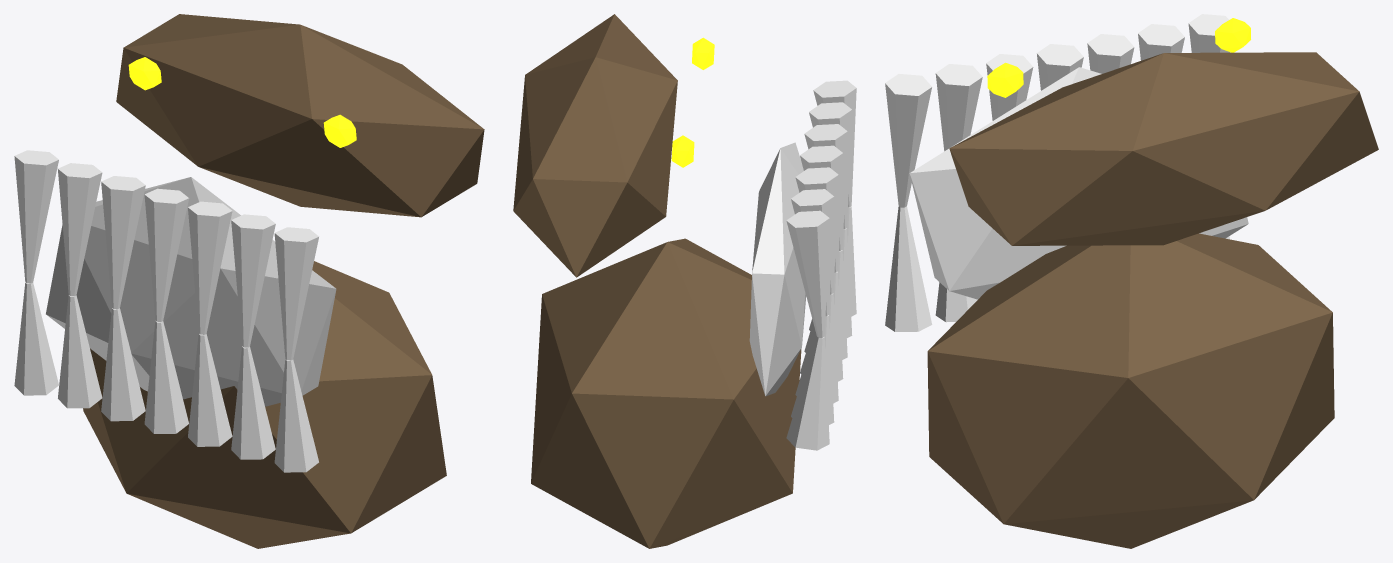
Rendered from mimic.glb.
The picture shows the model from 3 angles, left to right: view 1: azimuth 30°, elevation 25°; view 2: azimuth 150°, elevation 25°; view 3: azimuth 270°, elevation 25°; orthographic projection. The views are drawn at different scales.
Parts seen in each view (by area): view 1: Open lid, Chest body, Maw, Tooth.016, Tooth.008, Tooth.012, Tooth.018, Tooth.006, Tooth.010, Tooth.014, Tooth.007, Tooth.015 (+7 smaller); view 2: Chest body, Open lid, Maw, Tooth.006, Tooth.005, Tooth.012, Tooth.018, Tooth.008, Tooth.010, Tooth.016, Tooth.014, Tooth.007 (+7 smaller); view 3: Chest body, Open lid, Maw, Tooth.018, Tooth.017, Tooth.016, Tooth.010, Tooth.012, Tooth.014, Tooth.008, Tooth.006, Tooth.015 (+2 smaller).
Part boxes in pixels (x1=…): Open lid: x1=116, y1=14, x2=484, y2=217; Chest body: x1=83, y1=261, x2=446, y2=548; Maw: x1=46, y1=177, x2=336, y2=406; Tooth.016: x1=231, y1=214, x2=275, y2=347; Tooth.008: x1=58, y1=163, x2=102, y2=296; Tooth.012: x1=144, y1=188, x2=188, y2=321; Tooth.018: x1=274, y1=227, x2=318, y2=360; Tooth.006: x1=14, y1=150, x2=58, y2=283; Tooth.010: x1=101, y1=176, x2=145, y2=309; Tooth.014: x1=188, y1=201, x2=232, y2=334; Tooth.007: x1=58, y1=295, x2=102, y2=408; Tooth.015: x1=231, y1=346, x2=275, y2=459; Chest body: x1=531, y1=238, x2=801, y2=548; Open lid: x1=513, y1=14, x2=677, y2=277; Maw: x1=749, y1=142, x2=806, y2=396; Tooth.006: x1=786, y1=210, x2=829, y2=337; Tooth.005: x1=786, y1=337, x2=829, y2=450; Tooth.012: x1=800, y1=145, x2=843, y2=272; Tooth.018: x1=813, y1=80, x2=856, y2=207; Tooth.008: x1=791, y1=189, x2=834, y2=316; Tooth.010: x1=795, y1=167, x2=838, y2=294; Tooth.016: x1=809, y1=102, x2=852, y2=229; Tooth.014: x1=804, y1=124, x2=847, y2=250; Tooth.007: x1=791, y1=315, x2=834, y2=424; Chest body: x1=927, y1=233, x2=1334, y2=548; Open lid: x1=949, y1=52, x2=1378, y2=245; Maw: x1=909, y1=67, x2=1248, y2=299; Tooth.018: x1=885, y1=74, x2=931, y2=207; Tooth.017: x1=885, y1=206, x2=932, y2=331; Tooth.016: x1=935, y1=64, x2=982, y2=151; Tooth.010: x1=1087, y1=34, x2=1134, y2=73; Tooth.012: x1=1036, y1=44, x2=1083, y2=90; Tooth.014: x1=986, y1=54, x2=1033, y2=120; Tooth.008: x1=1138, y1=24, x2=1184, y2=60; Tooth.006: x1=1188, y1=14, x2=1229, y2=52; Tooth.015: x1=935, y1=282, x2=977, y2=322.
Bounding box in the file's own units: 1.59 × 2.08 × 1.77.
